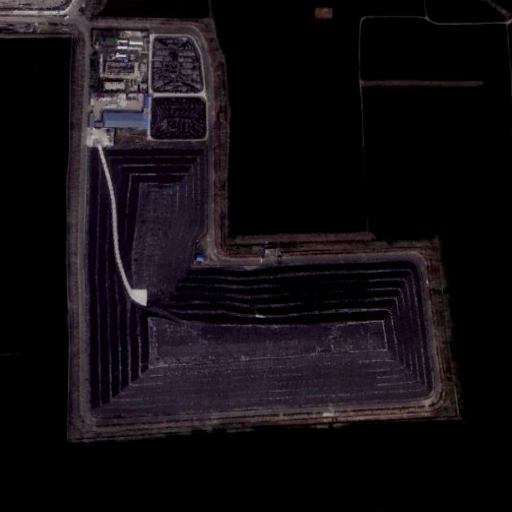lf: (88, 147, 429, 416)
